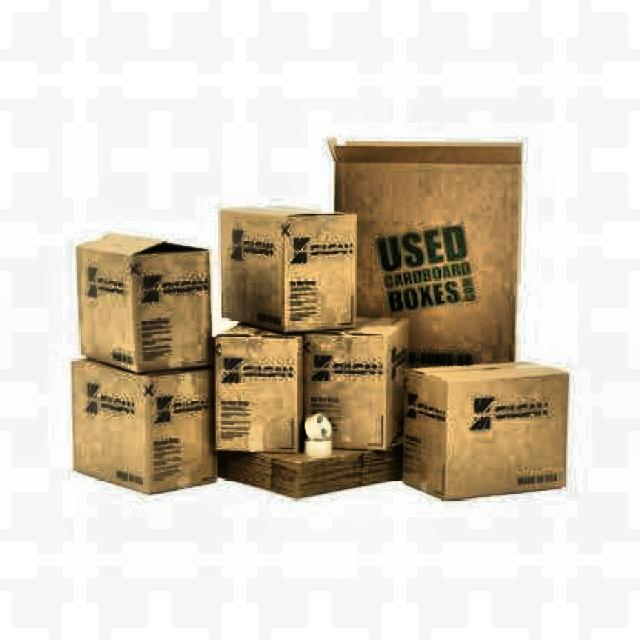Cardbox: (54, 198, 549, 497)
